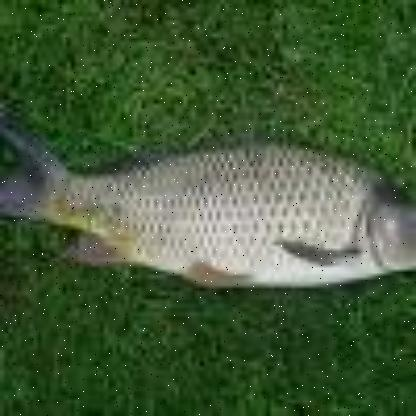ikan-mas: (4, 120, 414, 288)
